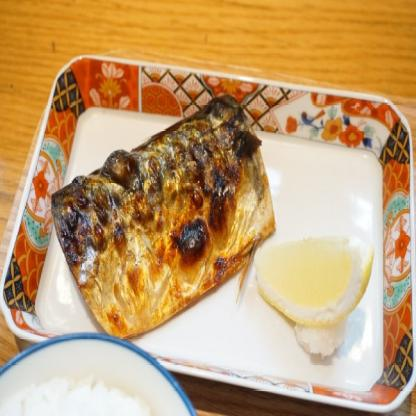Peixe: (31, 94, 289, 343)
